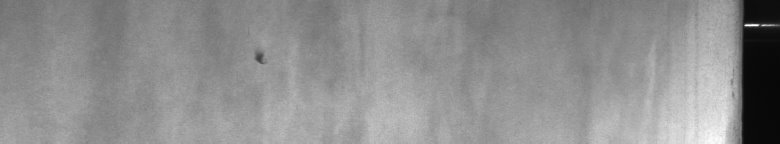fi: (249, 44, 268, 72)
